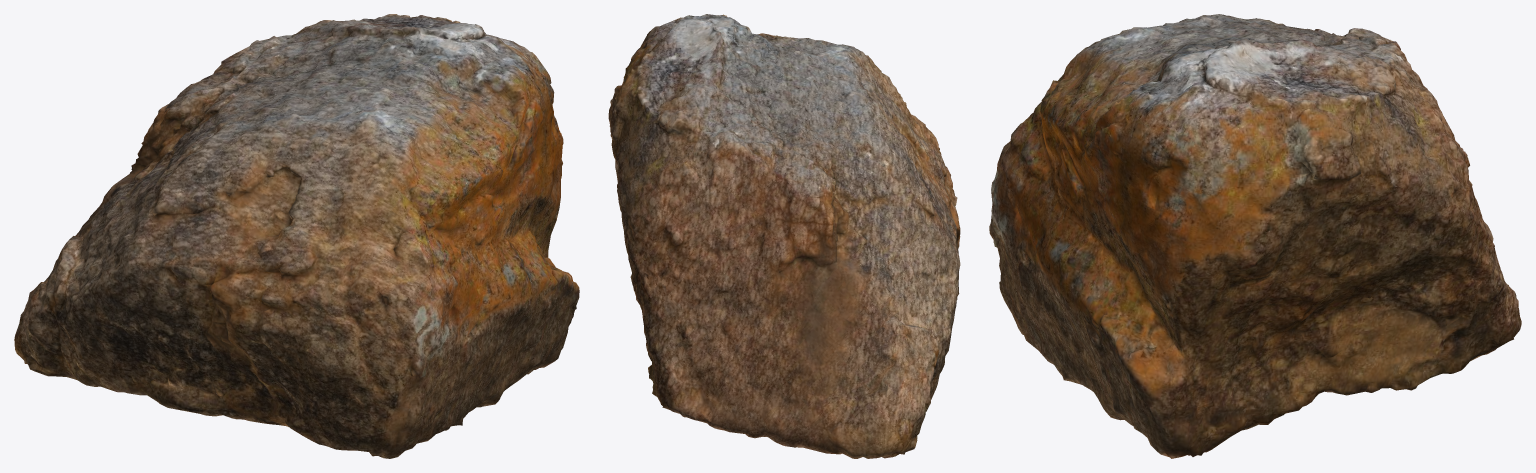
The model's file is namaqualand_boulder_04.glb.
3 renders of one model, left to right at view 1: azimuth 30°, elevation 25°; view 2: azimuth 150°, elevation 25°; view 3: azimuth 270°, elevation 25°, orthographic. The views are drawn at different scales.
Parts seen in each view (by area): view 1: boulder_04; view 2: boulder_04; view 3: boulder_04.
Part boxes in pixels (x1,y1,x2,y2): boulder_04: (14, 14, 579, 458); boulder_04: (608, 14, 960, 458); boulder_04: (989, 14, 1521, 458).
Bounding box in the file's own units: 2.52 × 1.9 × 2.5.
1 material, 1 textured.
